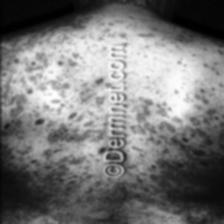Non-Cancerous Skin Condition: (0, 178, 220, 224), (5, 49, 94, 136)
